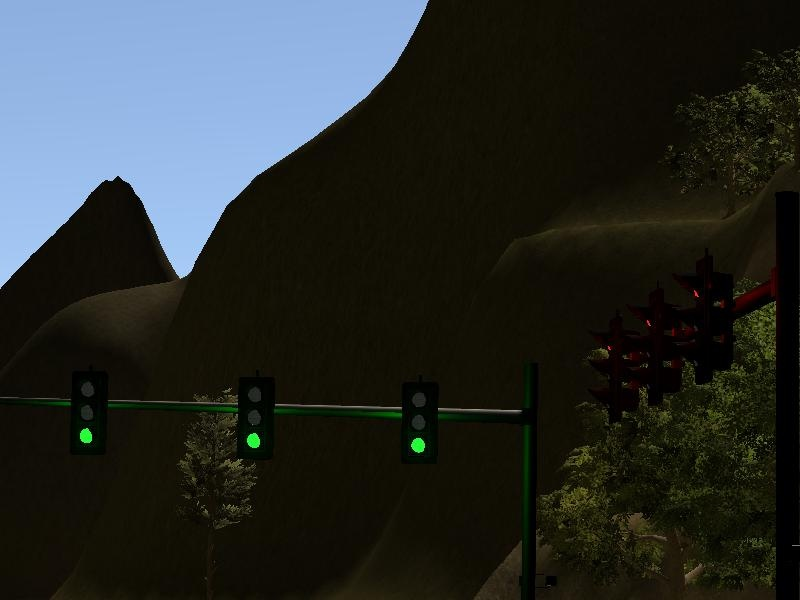Green: (69, 370, 109, 458), (400, 380, 440, 465), (236, 376, 275, 461)
